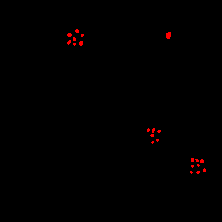Target: (166, 32, 171, 39), (67, 33, 72, 37), (67, 40, 71, 45), (79, 41, 83, 46), (75, 29, 79, 33), (200, 159, 204, 163), (152, 128, 155, 133), (73, 37, 76, 41), (147, 128, 150, 132), (157, 130, 161, 133), (150, 134, 154, 137), (191, 158, 194, 162), (195, 159, 199, 162), (203, 168, 206, 172), (196, 171, 200, 174), (81, 34, 84, 37), (73, 43, 76, 46), (156, 139, 159, 142), (151, 141, 154, 144), (197, 164, 200, 167), (191, 165, 194, 168), (190, 171, 193, 174)
